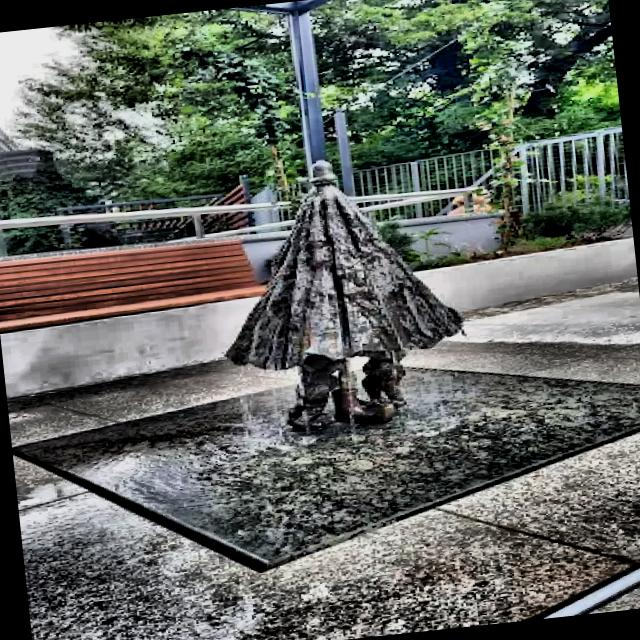Parasolniki: (222, 161, 462, 431)
